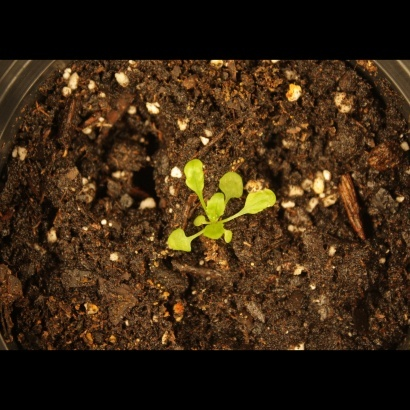leaf: (181, 154, 211, 202), (240, 188, 285, 220), (160, 227, 199, 260), (215, 165, 245, 200), (205, 191, 228, 222), (201, 219, 226, 242), (187, 210, 210, 233), (225, 225, 248, 248)
